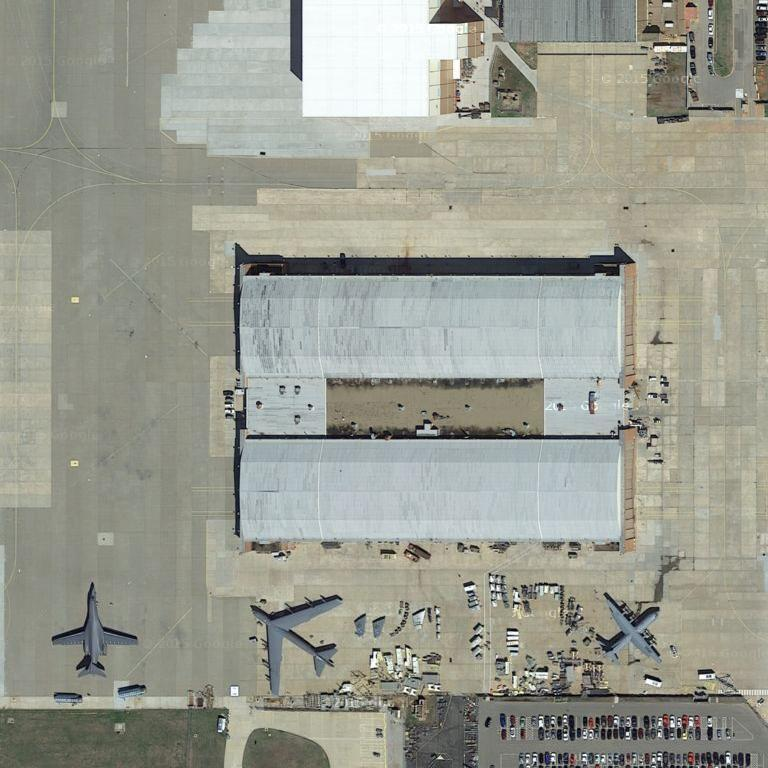B-1B: (45, 584, 141, 682)
B-52: (245, 596, 346, 693)
C-130: (595, 590, 666, 668)
